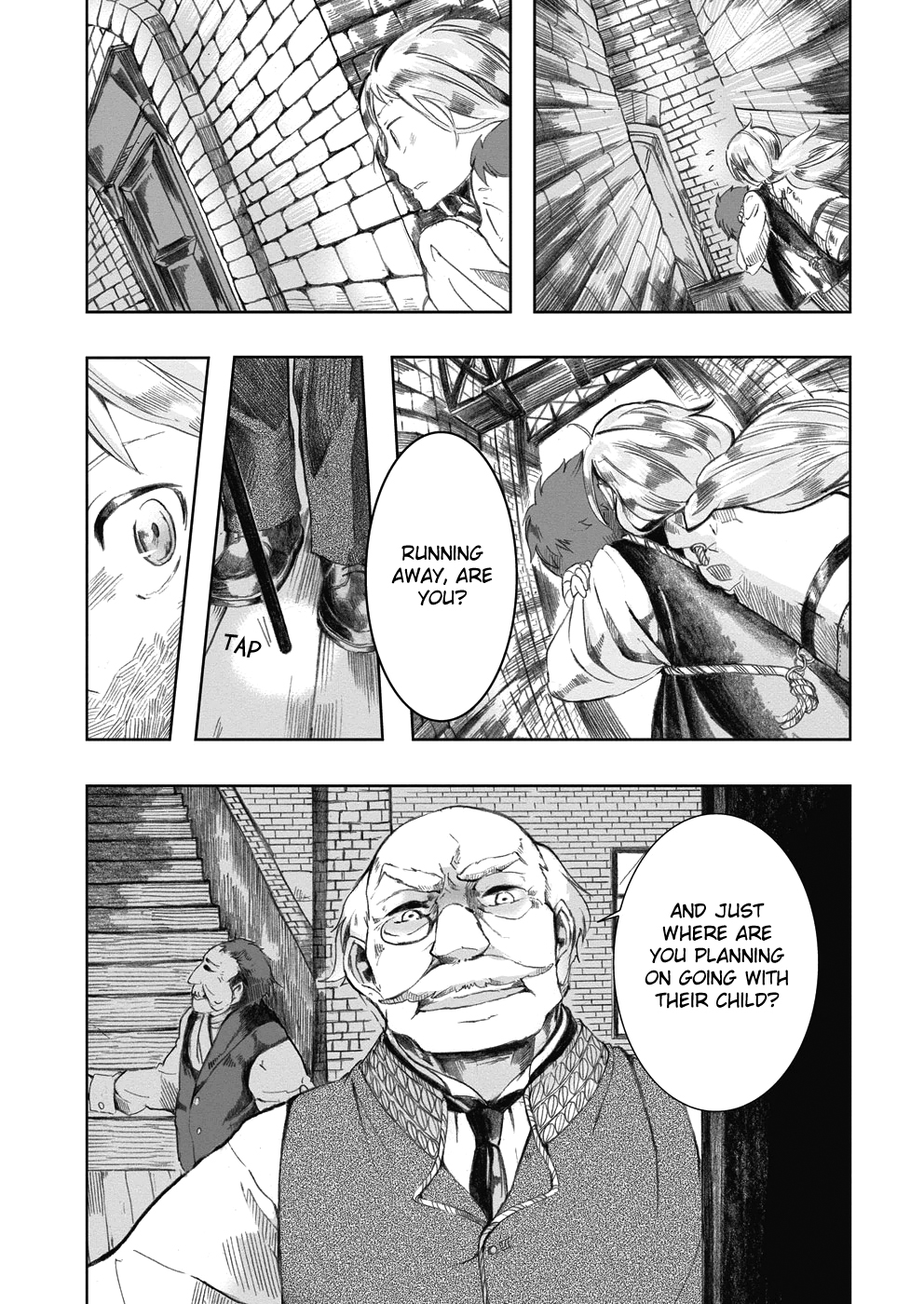bubble: (598, 815, 819, 1113), (367, 431, 517, 722)
